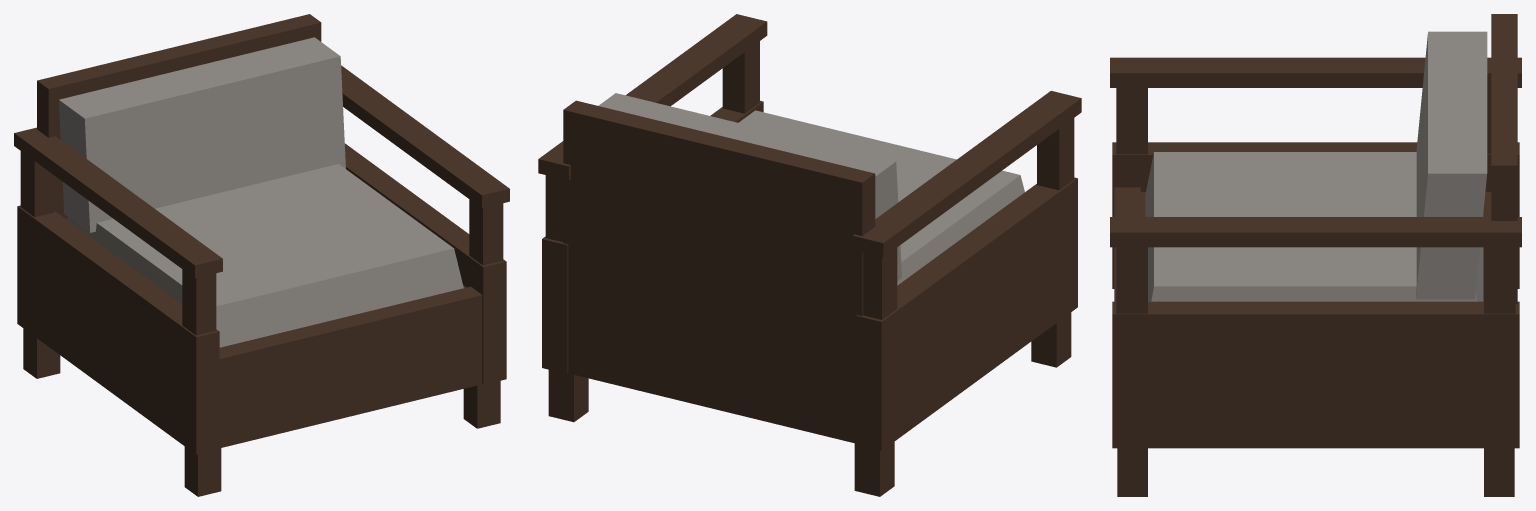
Rendered from FN_Chair_Rattan.glb.
3 views of the same model, side by side, from view 1: azimuth 30°, elevation 25°; view 2: azimuth 150°, elevation 25°; view 3: azimuth 270°, elevation 25° (orthographic). The views are drawn at different scales.
Parts seen in each view (by area): view 1: FN_Chair_Rattan; view 2: FN_Chair_Rattan; view 3: FN_Chair_Rattan.
Boxes of the visible parts, <box> form: FN_Chair_Rattan: <box>14,14,509,496</box>; FN_Chair_Rattan: <box>538,14,1081,496</box>; FN_Chair_Rattan: <box>1110,14,1521,496</box>.
Bounding box in the file's own units: 0.812 × 0.7 × 0.808.
Materials: 1 (1 with a texture image).
